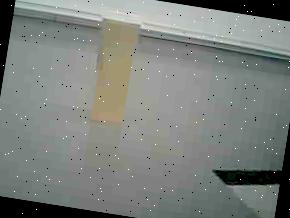Bottle A: (79, 2, 153, 131)
